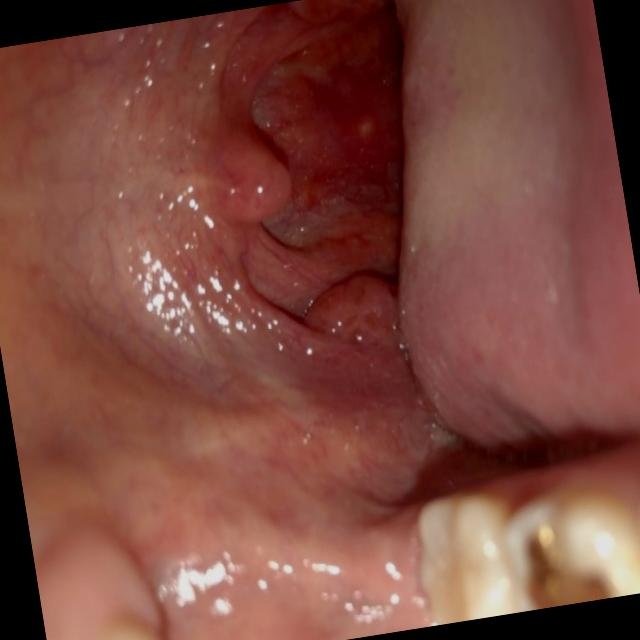Non Pharyngitis: (92, 262, 420, 593)
